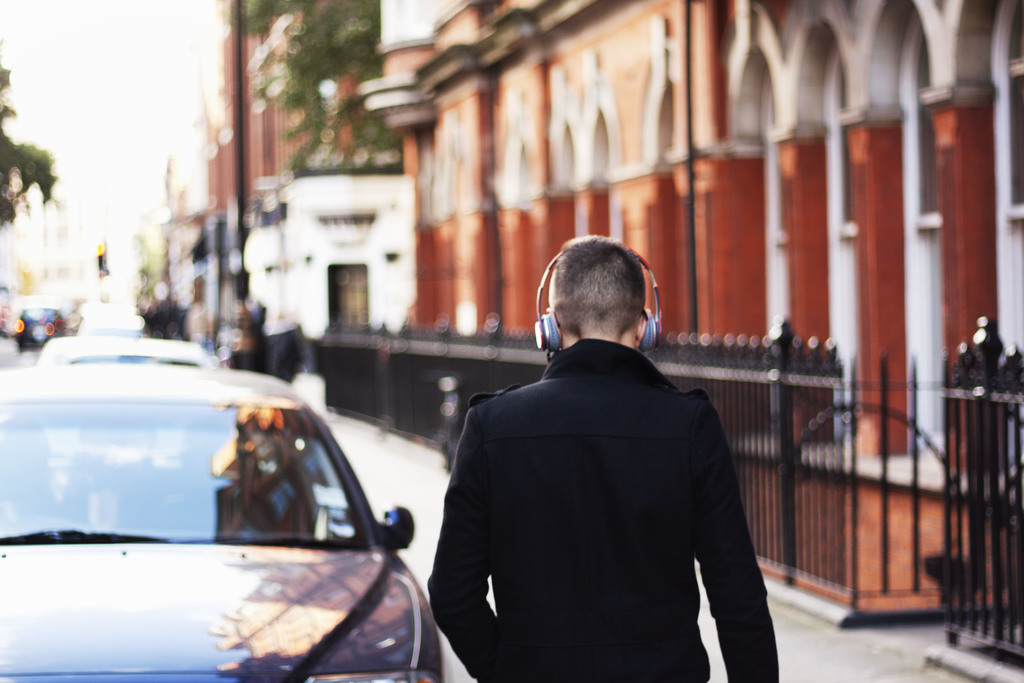Car: (0, 365, 465, 682), (44, 328, 213, 363), (7, 299, 66, 344), (82, 314, 151, 338)
